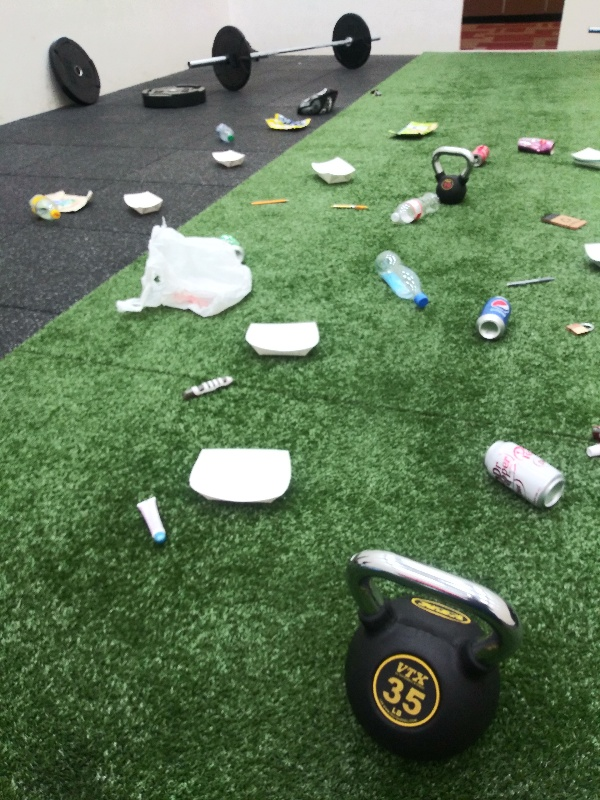bag: (47, 182, 100, 212), (385, 116, 443, 140), (259, 111, 315, 131)
bottle: (367, 247, 431, 310), (385, 186, 444, 225), (24, 188, 62, 220), (208, 120, 243, 145)
can: (478, 434, 572, 511), (472, 292, 515, 343), (219, 225, 248, 261), (512, 135, 558, 156), (472, 142, 495, 165)
plate: (180, 445, 297, 501), (239, 315, 323, 359), (309, 154, 359, 192), (119, 186, 166, 216), (205, 144, 248, 172), (569, 139, 600, 175), (582, 236, 600, 270)
